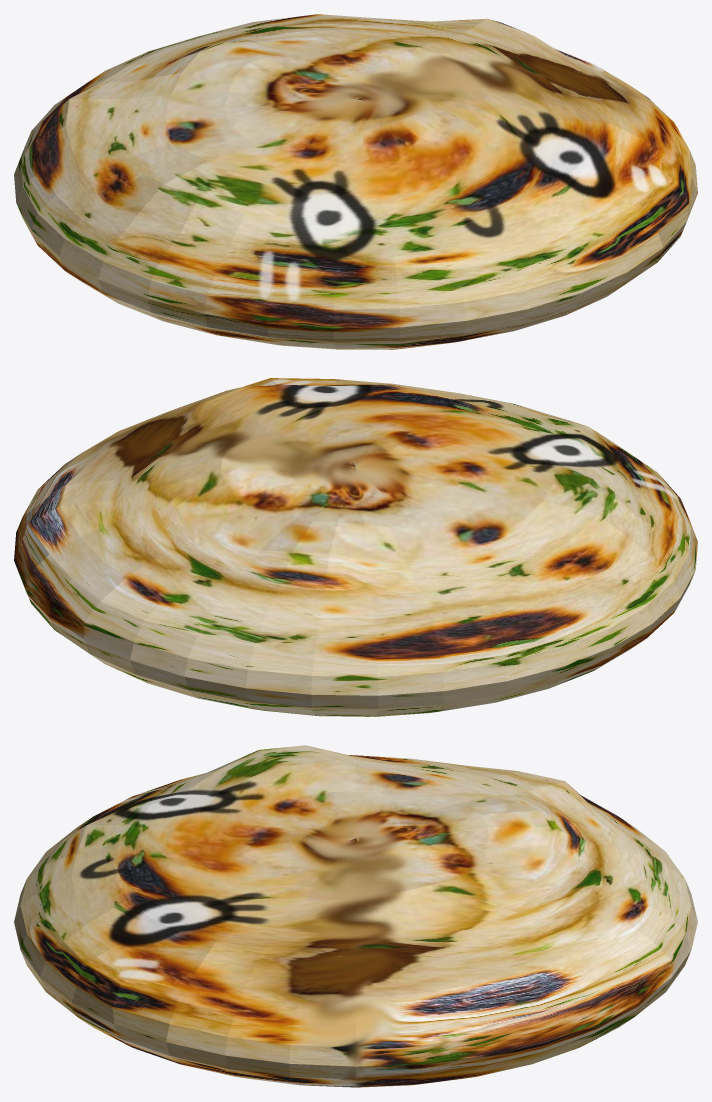
The model's file is naanmodel.glb.
3 views of the same model, one above another, from view 1: azimuth 30°, elevation 25°; view 2: azimuth 150°, elevation 25°; view 3: azimuth 270°, elevation 25° (orthographic).
Visible parts, largest first — view 1: Sphere; view 2: Sphere; view 3: Sphere.
Part boxes in pixels (x1,y1,x2,y2): Sphere: [14, 14, 697, 349]; Sphere: [14, 378, 697, 716]; Sphere: [14, 745, 697, 1087].
Size of the model in its own units: 18.86 by 5.09 by 18.86.
Materials: 1 (1 with a texture image).
